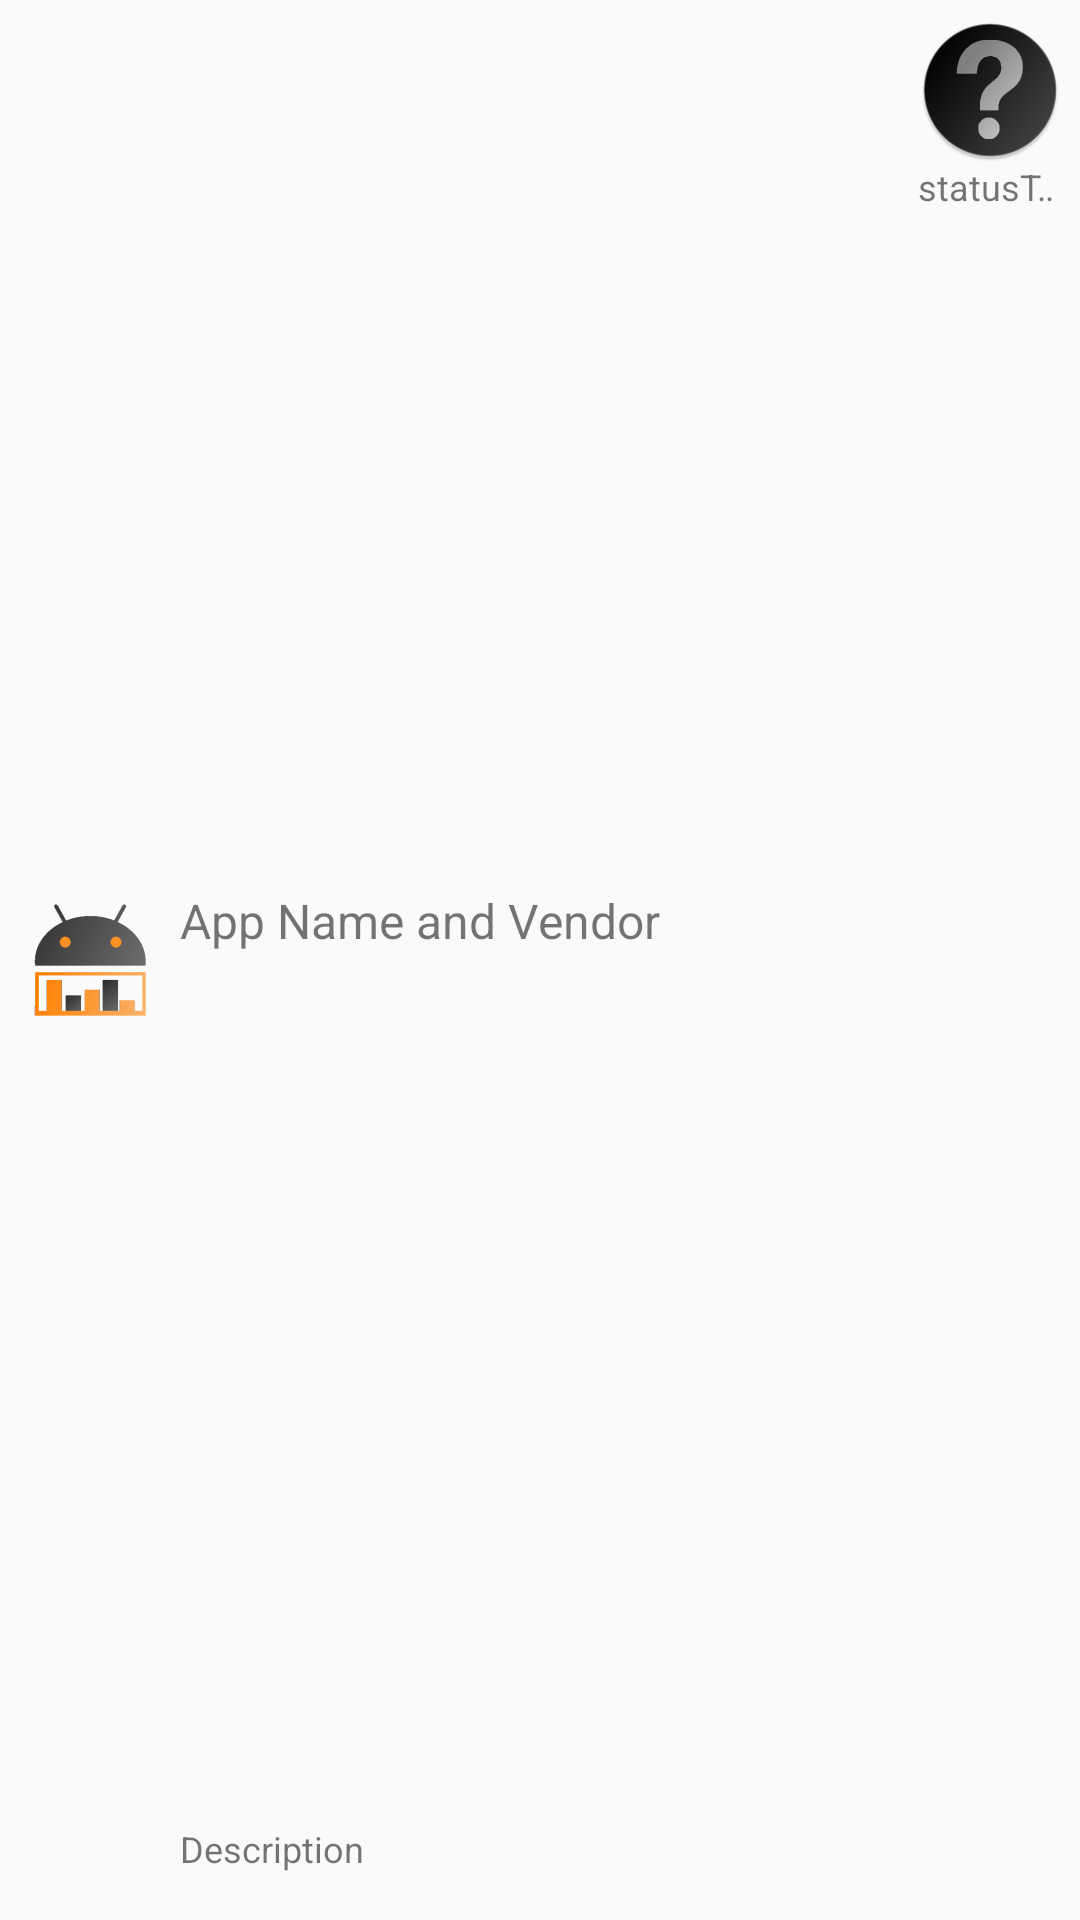

Locate icon controls on the screen. Image size 1080×1920, boxes as (x1, y1, x2, y2).
quest: (923, 23, 1057, 159)
